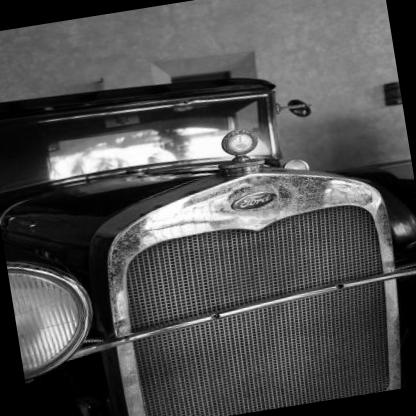car: (1, 17, 416, 416)
